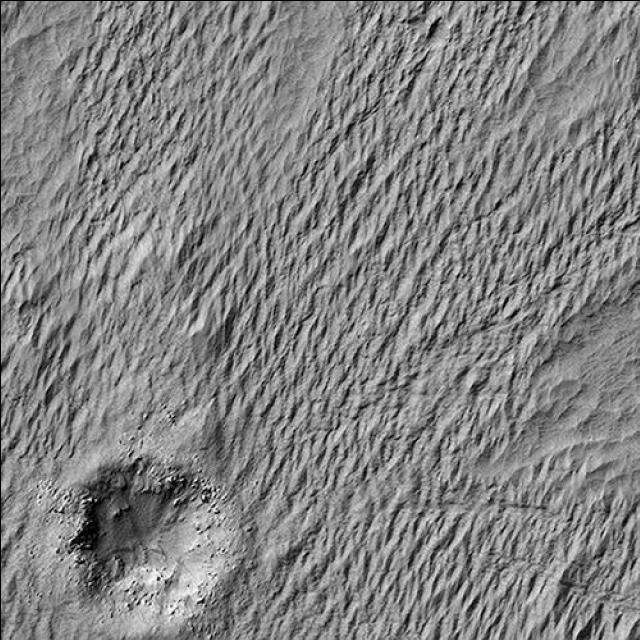crater: (43, 446, 237, 636), (510, 517, 640, 640)
